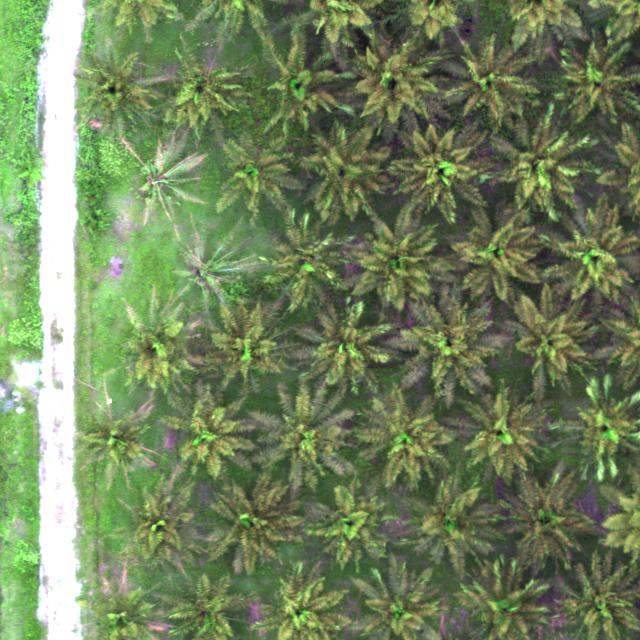oilpalm: (379, 114, 493, 217), (336, 35, 448, 130), (350, 381, 450, 484), (498, 288, 593, 390), (287, 300, 398, 387), (254, 387, 355, 481), (548, 204, 640, 307), (397, 295, 493, 390), (254, 36, 345, 136), (489, 109, 573, 217), (439, 31, 533, 127), (161, 387, 257, 478), (204, 474, 294, 568), (451, 393, 546, 482), (553, 377, 640, 472), (548, 38, 640, 127), (72, 43, 163, 132), (448, 205, 536, 297), (112, 294, 191, 395), (347, 206, 430, 302), (501, 477, 589, 564), (156, 47, 242, 135), (197, 301, 281, 390), (117, 478, 198, 568), (300, 125, 382, 212), (76, 396, 157, 484), (352, 561, 439, 640), (409, 475, 485, 565), (206, 134, 289, 216), (557, 559, 640, 640), (264, 218, 338, 308), (310, 482, 386, 569), (253, 574, 349, 640), (166, 228, 241, 308), (120, 138, 190, 223), (465, 566, 539, 640)
